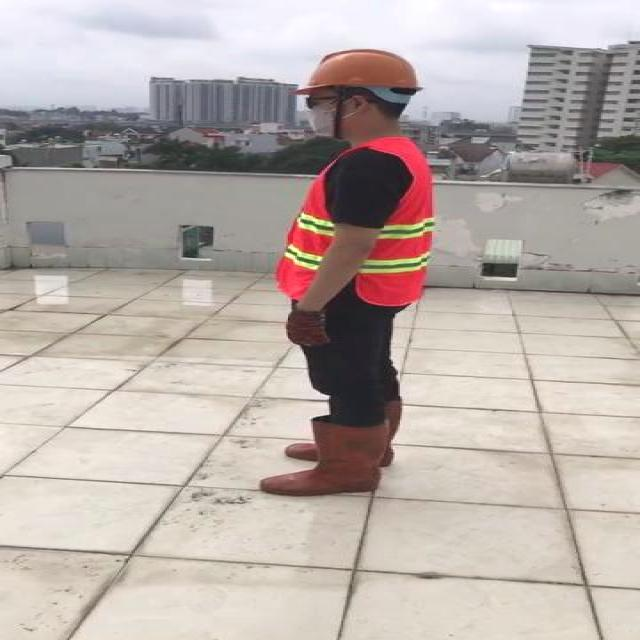boots: (260, 421, 388, 499), (286, 401, 400, 471)
face_mask: (294, 85, 353, 138)
hand_glove: (286, 310, 331, 346)
head_helmet: (285, 47, 424, 98)
person: (246, 43, 440, 503)
vest: (276, 140, 429, 307)
